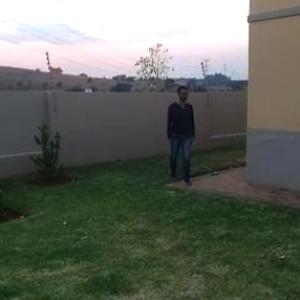follow: (162, 81, 197, 191)
